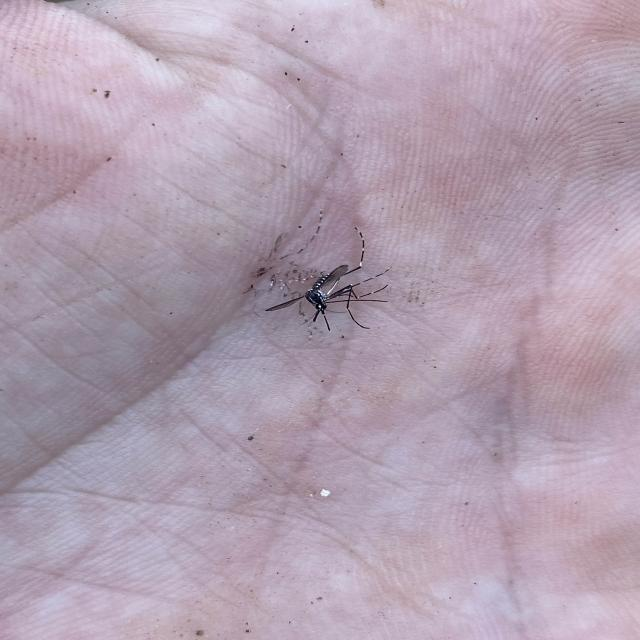albopictus: (249, 224, 397, 335)
